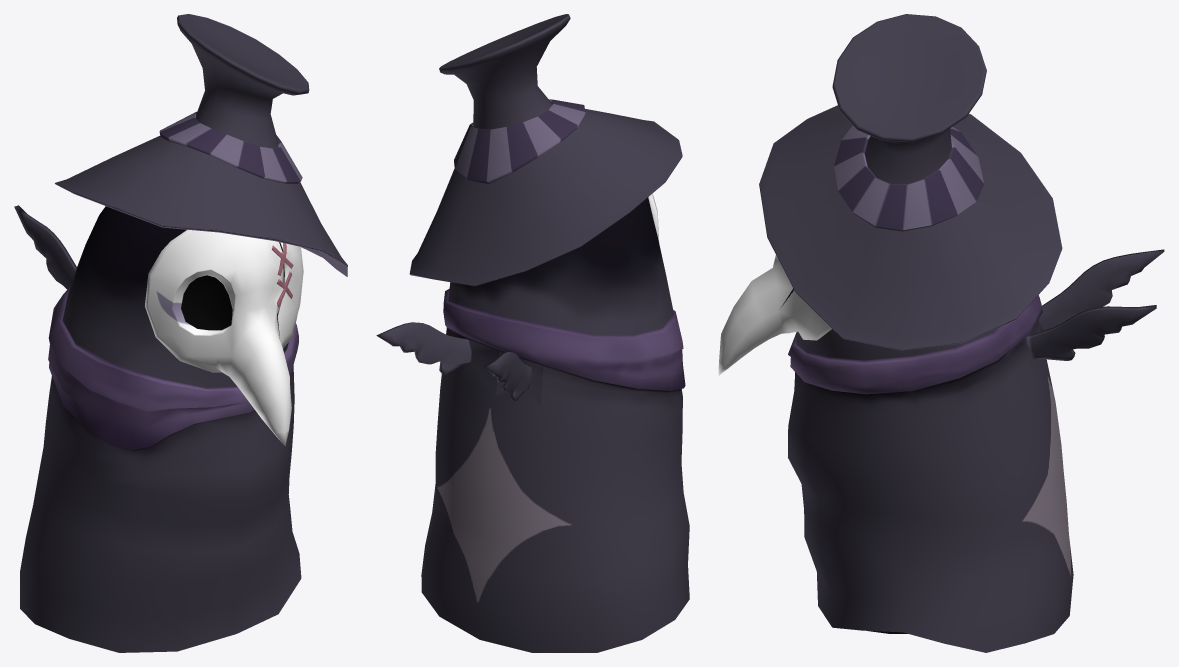
The model's file is ShadowStock_Player_v3.fbx.
The picture shows the model from 3 angles, left to right: view 1: azimuth 30°, elevation 25°; view 2: azimuth 150°, elevation 25°; view 3: azimuth 270°, elevation 25°; orthographic projection. The views are drawn at different scales.
Visible parts, largest first — view 1: Body_GEO, Hat_GEO; view 2: Body_GEO, Hat_GEO; view 3: Body_GEO, Hat_GEO.
Boxes of the visible parts, x1,y1,x2,y2 form: Body_GEO: [14, 205, 303, 652]; Hat_GEO: [55, 14, 347, 276]; Body_GEO: [376, 193, 689, 652]; Hat_GEO: [409, 14, 682, 286]; Body_GEO: [718, 249, 1164, 652]; Hat_GEO: [759, 14, 1062, 350].
Bounding box in the file's own units: 6.84 × 13.93 × 9.34.
